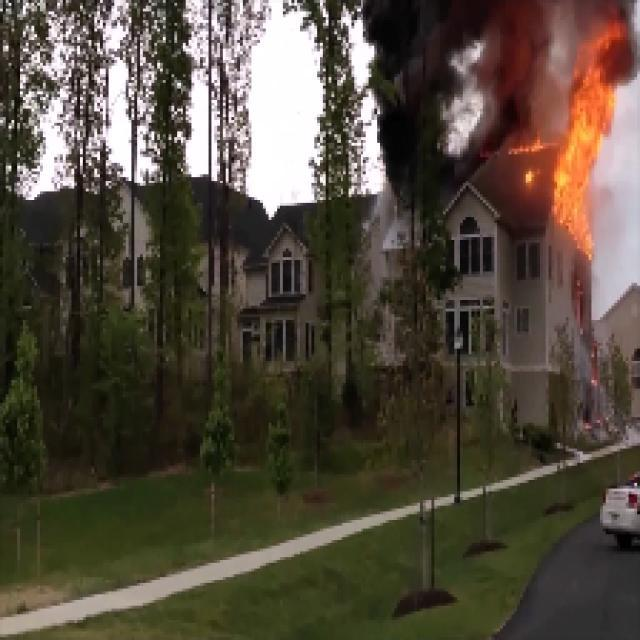Fire: (561, 58, 625, 221)
Smoke: (374, 3, 543, 170)
